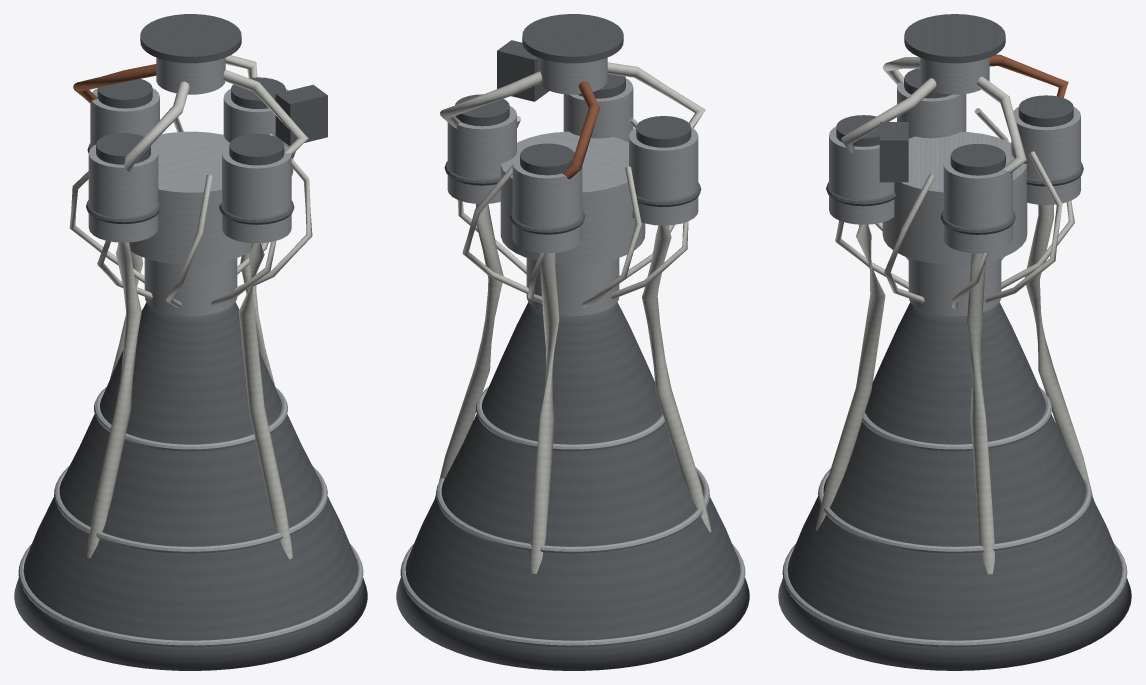
3 renders of one model, left to right at view 1: azimuth 30°, elevation 25°; view 2: azimuth 150°, elevation 25°; view 3: azimuth 270°, elevation 25°, orthographic.
Visible parts, largest first — view 1: RS25_Nozzle, RS25_Manifold, RS25_Turbopump_02, RS25_Turbopump_03, RS25_MainDuct_02, RS25_MainDuct_03, RS25_Chamber, RS25_MountFlange, RS25_JacketBand, RS25_JacketBand.001, RS25_Controller, RS25_Turbopump_01 (+17 smaller); view 2: RS25_Nozzle, RS25_Manifold, RS25_Turbopump_01, RS25_Turbopump_02, RS25_MainDuct_01, RS25_Turbopump_00, RS25_MainDuct_02, RS25_MountFlange, RS25_MainDuct_00, RS25_Chamber, RS25_JacketBand, RS25_Turbopump_03 (+15 smaller); view 3: RS25_Nozzle, RS25_Manifold, RS25_Turbopump_00, RS25_MainDuct_00, RS25_MainDuct_03, RS25_Turbopump_03, RS25_MountFlange, RS25_Turbopump_01, RS25_Chamber, RS25_MainDuct_01, RS25_JacketBand, RS25_Turbopump_02 (+16 smaller).
Part boxes in pixels (box(x1,y1,x2,y2)): RS25_Nozzle: box(14, 302, 367, 670); RS25_Manifold: box(129, 131, 251, 264); RS25_Turbopump_02: box(88, 144, 158, 242); RS25_Turbopump_03: box(222, 145, 291, 243); RS25_MainDuct_02: box(87, 242, 141, 558); RS25_MainDuct_03: box(238, 243, 292, 559); RS25_Chamber: box(144, 258, 237, 316); RS25_MountFlange: box(140, 14, 241, 63); RS25_JacketBand: box(18, 544, 363, 647); RS25_JacketBand.001: box(54, 466, 327, 553); RS25_Controller: box(275, 84, 327, 145); RS25_Turbopump_01: box(90, 88, 159, 148); RS25_Nozzle: box(396, 302, 749, 670); RS25_Manifold: box(500, 131, 645, 264); RS25_Turbopump_01: box(512, 155, 582, 253); RS25_Turbopump_02: box(629, 127, 698, 225); RS25_MainDuct_01: box(529, 253, 559, 573); RS25_Turbopump_00: box(447, 106, 516, 203); RS25_MainDuct_02: box(642, 225, 711, 532); RS25_MountFlange: box(522, 14, 623, 63); RS25_MainDuct_00: box(435, 204, 503, 497); RS25_Chamber: box(526, 258, 619, 316); RS25_JacketBand: box(400, 544, 745, 647); RS25_Turbopump_03: box(563, 78, 633, 142); RS25_Nozzle: box(778, 302, 1131, 670); RS25_Manifold: box(882, 131, 1027, 264); RS25_Turbopump_00: box(943, 155, 1012, 253); RS25_MainDuct_00: box(967, 253, 995, 574); RS25_MainDuct_03: box(815, 224, 885, 530); RS25_Turbopump_03: box(829, 126, 894, 224); RS25_MountFlange: box(904, 14, 1005, 63); RS25_Turbopump_01: box(1011, 107, 1080, 204); RS25_Chamber: box(908, 258, 1001, 316); RS25_MainDuct_01: box(1024, 204, 1093, 499); RS25_JacketBand: box(782, 544, 1127, 647); RS25_Turbopump_02: box(897, 82, 966, 138).
Bounding box in the file's own units: 2.44 × 4.27 × 2.44.
4 materials, 4 textured.
